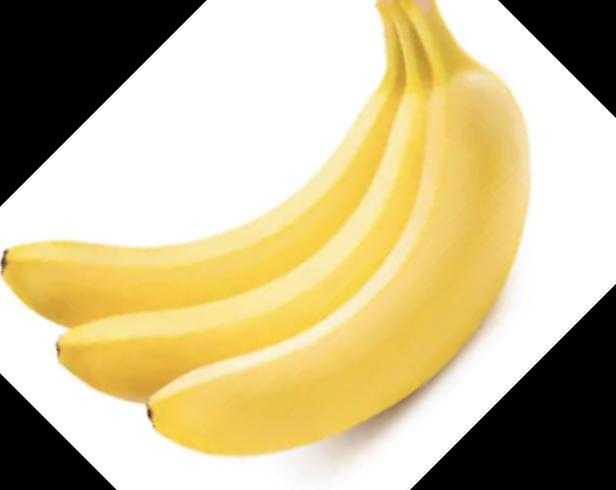Banana Ripe: (0, 0, 599, 490)
